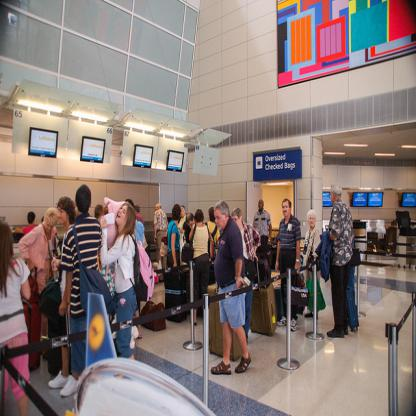backpack: (130, 236, 157, 305), (39, 277, 62, 322)
handbag: (72, 228, 114, 318), (39, 278, 64, 326), (291, 273, 310, 316), (306, 272, 326, 312), (181, 225, 197, 264), (307, 238, 321, 271), (350, 236, 361, 266), (208, 231, 216, 260), (48, 241, 54, 278)
suitcase: (207, 265, 285, 321), (206, 280, 235, 359), (21, 266, 42, 371), (47, 298, 72, 377), (250, 283, 279, 335), (164, 270, 186, 323), (140, 301, 166, 331), (347, 286, 359, 330), (183, 267, 191, 315), (385, 227, 397, 253), (258, 258, 267, 282)
